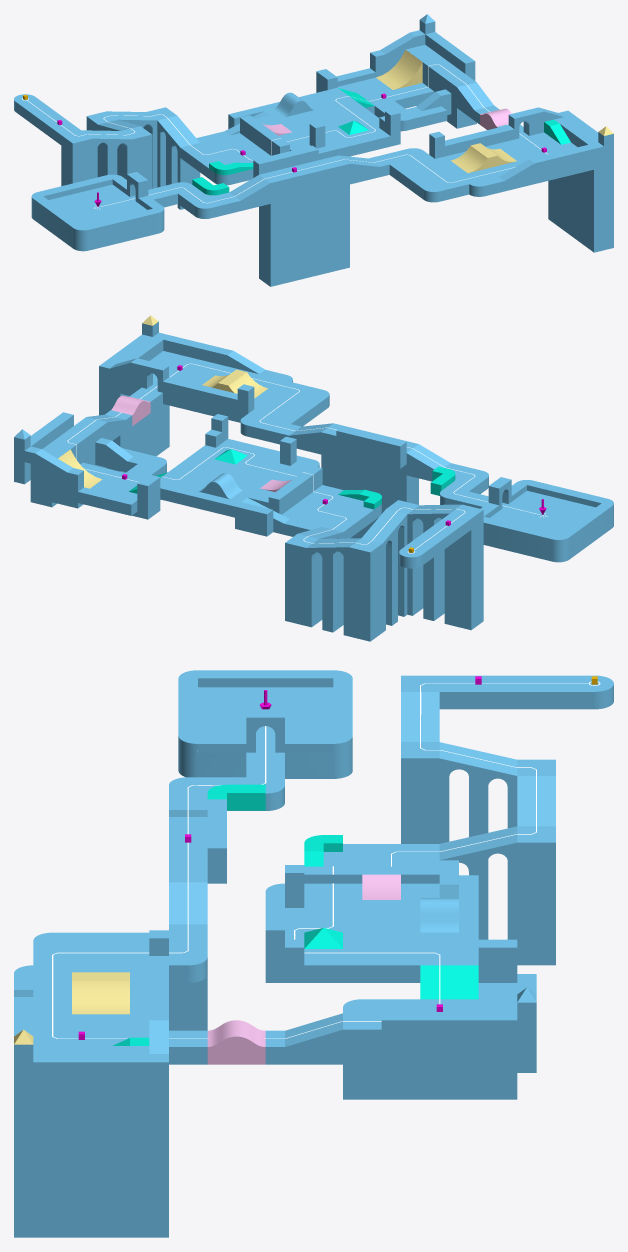
The model's file is level_skatepark.glb.
The picture shows the model from 3 angles, top to bottom: view 1: azimuth 30°, elevation 25°; view 2: azimuth 150°, elevation 25°; view 3: azimuth 270°, elevation 25°; orthographic projection. The views are drawn at different scales.
Visible parts, largest first — view 1: block_2x2x1__6_, platform_start, block_1x1x1__25_, block_1x1x1__33_, block_2x2x1__8_, block_2x2x1__10_, block_1x1x1__24_, block_1x1x1__30_, block_1x1x1_2, block_1x1x1__36_, block_1x1x1__1_, block_1x1x1__6_ (+37 smaller); view 2: platform_start, block_1x1x1__33_, block_2x2x1__8_, block_2x2x1__6_, block_1x1x1__25_, block_1x1x1_2, block_1x1x1__8_, block_2x2x1__10_, block_1x1x1__36_, block_1x1x1__6_, block_1x1x1__16_, arch_support__7_ (+38 smaller); view 3: block_1x1x1__25_, platform_start, block_1x1x1__33_, block_2x2x1__11_, block_2x2x1__8_, block_2x2x1__10_, block_1x1x1__16_, block_2x2x1__6_, block_1x1x1__1_, block_1x1x1__38_, block_2x_5x_5__4_, ramp_1x1x1__7_ (+38 smaller).
Part boxes in pixels (bbox=[...]): block_2x2x1__6_: bbox=[259, 155, 349, 286]; platform_start: bbox=[31, 174, 164, 251]; block_1x1x1__25_: bbox=[548, 110, 613, 252]; block_1x1x1__33_: bbox=[258, 87, 400, 159]; block_2x2x1__8_: bbox=[389, 132, 577, 199]; block_2x2x1__10_: bbox=[406, 44, 476, 128]; block_1x1x1__24_: bbox=[529, 144, 593, 183]; block_1x1x1__30_: bbox=[337, 77, 434, 114]; block_1x1x1_2: bbox=[61, 130, 92, 185]; block_1x1x1__36_: bbox=[196, 131, 270, 182]; block_1x1x1__1_: bbox=[121, 126, 152, 189]; block_1x1x1__6_: bbox=[253, 145, 318, 177]; platform_start: bbox=[483, 480, 613, 562]; block_1x1x1__33_: bbox=[160, 439, 302, 517]; block_2x2x1__8_: bbox=[120, 355, 327, 426]; block_2x2x1__6_: bbox=[321, 423, 418, 538]; block_1x1x1__25_: bbox=[99, 332, 169, 472]; block_1x1x1_2: bbox=[450, 504, 483, 630]; block_1x1x1__8_: bbox=[349, 538, 382, 641]; block_2x2x1__10_: bbox=[30, 417, 107, 507]; block_1x1x1__36_: bbox=[273, 485, 358, 536]; block_1x1x1__6_: bbox=[336, 426, 406, 468]; block_1x1x1__16_: bbox=[285, 534, 318, 625]; arch_support__7_: bbox=[327, 551, 348, 636]; block_1x1x1__25_: bbox=[14, 1046, 168, 1237]; platform_start: bbox=[178, 670, 352, 778]; block_1x1x1__33_: bbox=[265, 900, 478, 982]; block_2x2x1__11_: bbox=[381, 1012, 536, 1072]; block_2x2x1__8_: bbox=[52, 932, 149, 1045]; block_2x2x1__10_: bbox=[343, 1013, 517, 1099]; block_1x1x1__16_: bbox=[517, 826, 555, 965]; block_2x2x1__6_: bbox=[169, 817, 207, 1030]; block_1x1x1__1_: bbox=[401, 742, 439, 843]; block_1x1x1__38_: bbox=[439, 675, 536, 709]; block_2x_5x_5__4_: bbox=[304, 866, 439, 883]; ramp_1x1x1__7_: bbox=[420, 965, 478, 999].
Bounding box in the file's own units: 49 × 12.64 × 31.
